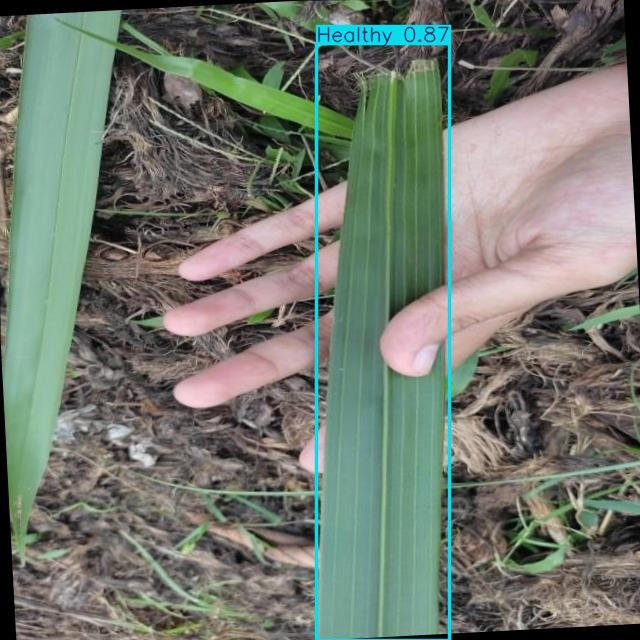Healthy: (317, 44, 449, 640)
